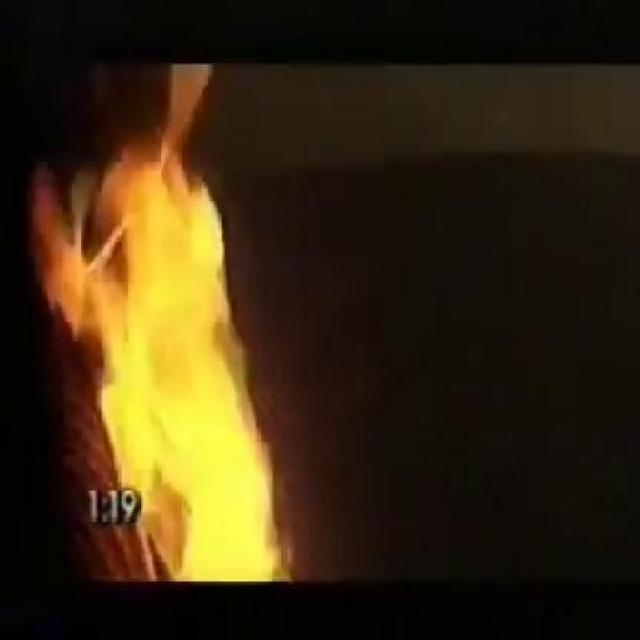fire: (23, 74, 296, 486), (142, 493, 318, 576)
